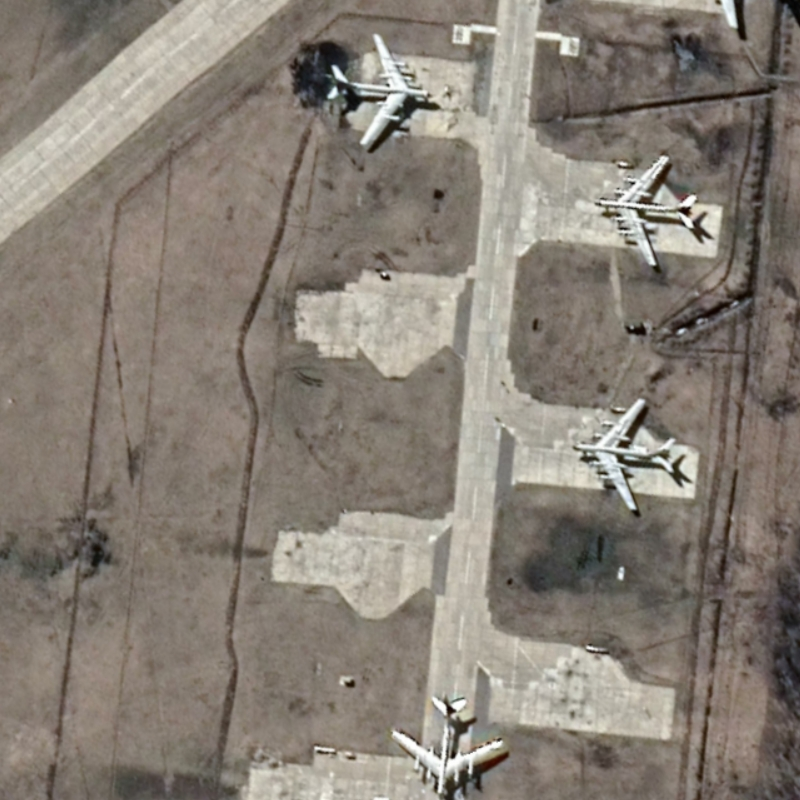A17: (325, 31, 434, 149), (590, 153, 699, 269), (570, 396, 676, 512), (389, 695, 506, 800)
